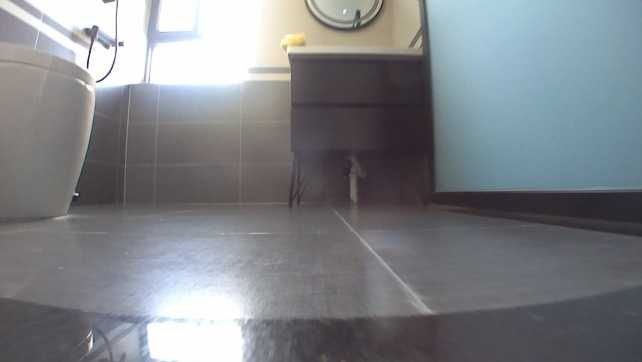toilet: (0, 40, 102, 223)
washstand: (284, 42, 435, 209)
